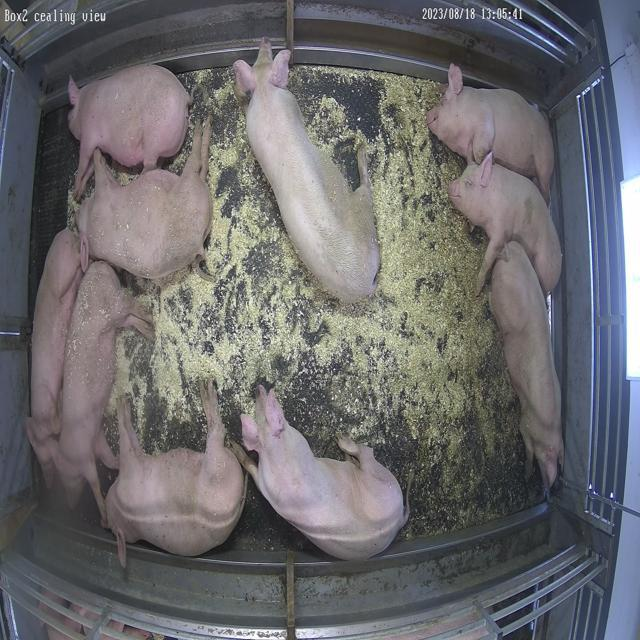Pig: (234, 40, 380, 303), (240, 386, 409, 561), (105, 381, 246, 568), (57, 261, 153, 516), (77, 120, 211, 278), (491, 241, 565, 488), (428, 63, 555, 200), (68, 64, 191, 198), (449, 152, 563, 294), (25, 229, 82, 488)
